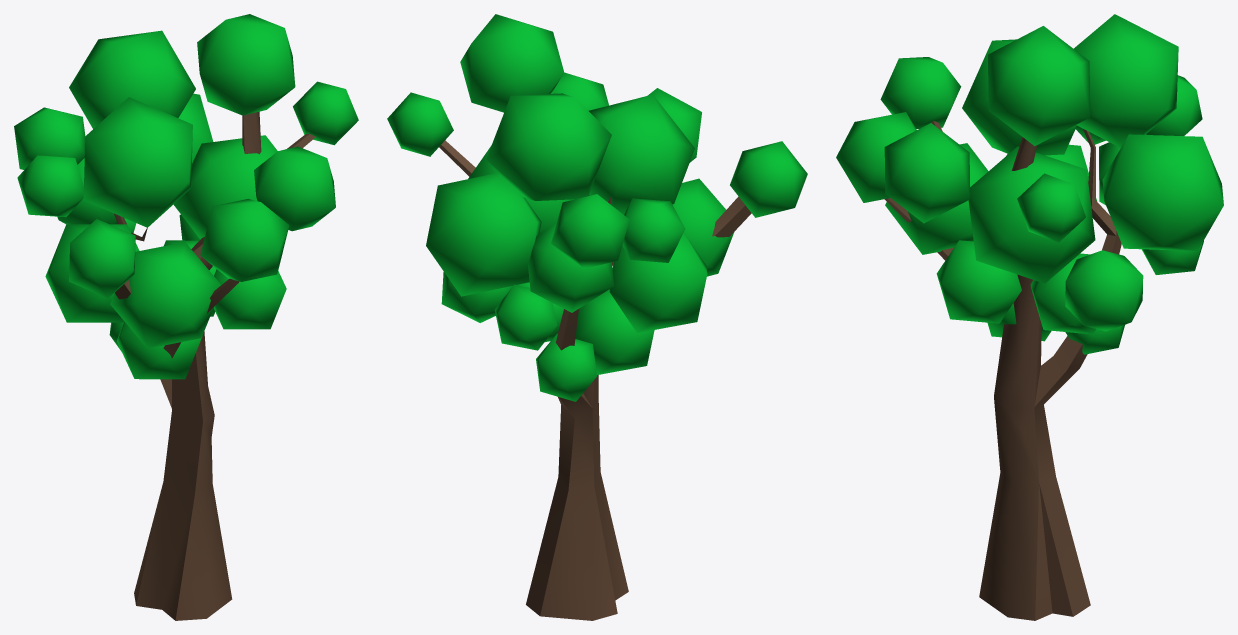
The model's file is Tree2.fbx.
The picture shows the model from 3 angles, left to right: view 1: azimuth 30°, elevation 25°; view 2: azimuth 150°, elevation 25°; view 3: azimuth 270°, elevation 25°; orthographic projection. The views are drawn at different scales.
Parts seen in each view (by area): view 1: Tree_2D; view 2: Tree_2D; view 3: Tree_2D.
Part boxes in pixels (x1,y1,x2,y2): Tree_2D: (14,14,358,620); Tree_2D: (387,14,807,620); Tree_2D: (836,14,1223,620).
Bounding box in the file's own units: 11740 × 18557 × 10928.
